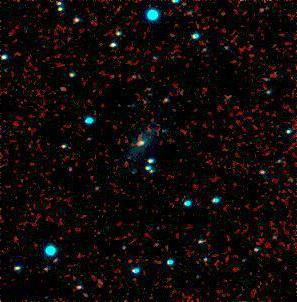star: (240, 158, 270, 188)
